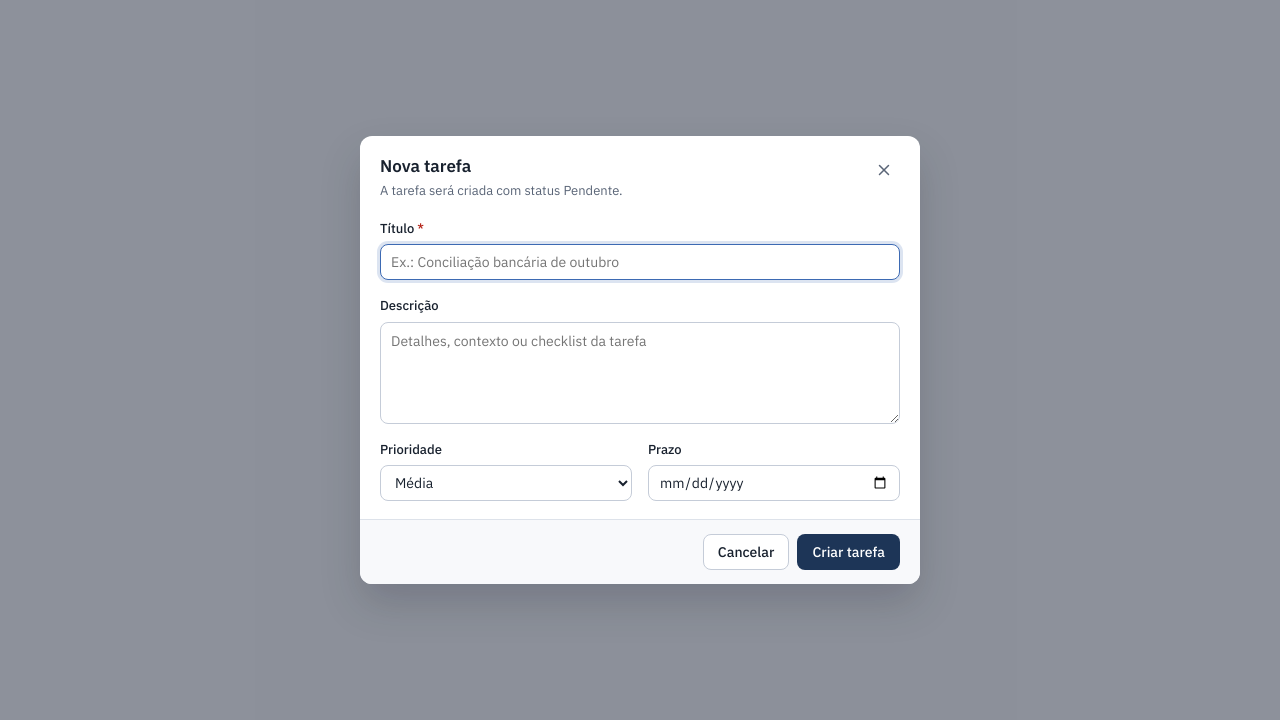
Test: TaskFormModal › mostra no campo o erro de validação devolvido pela API
This screenshot has width=1280, height=720.
In the field labelled "Título *": (640,262) 380,244 -> 900,280, type "Tarefa"
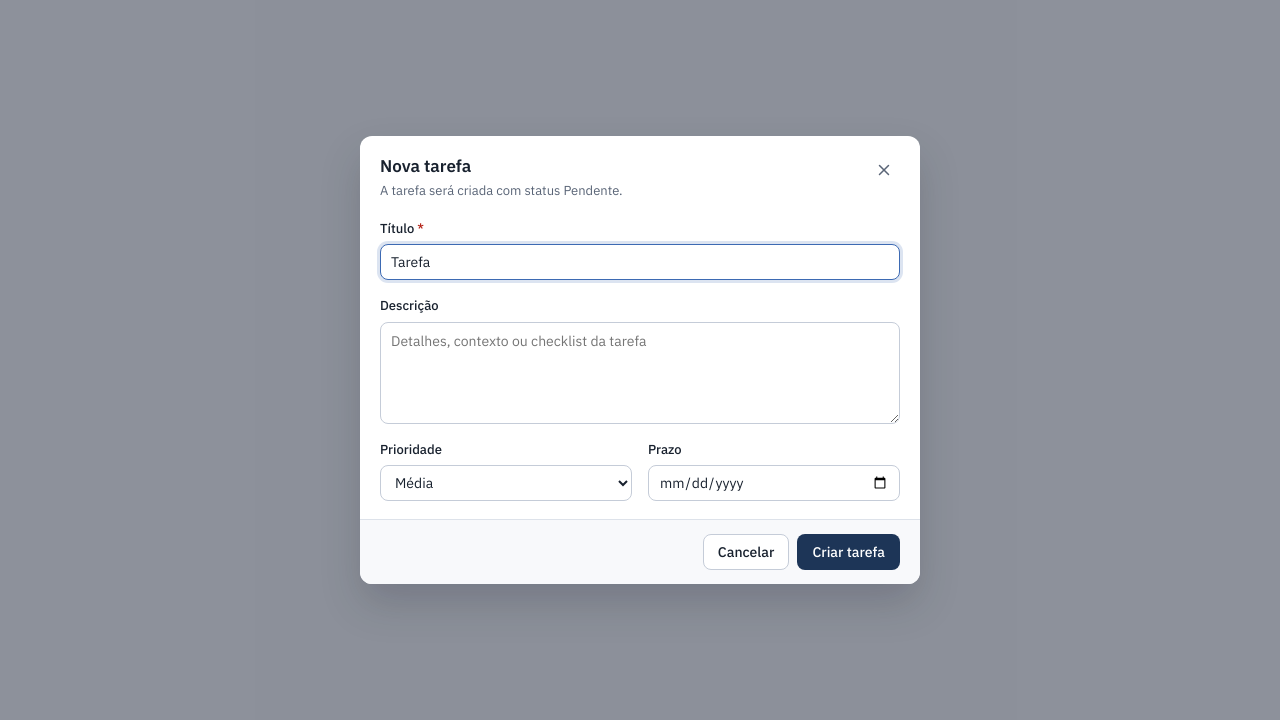
Click the button "Criar tarefa": (849,552) 797,534 -> 900,570
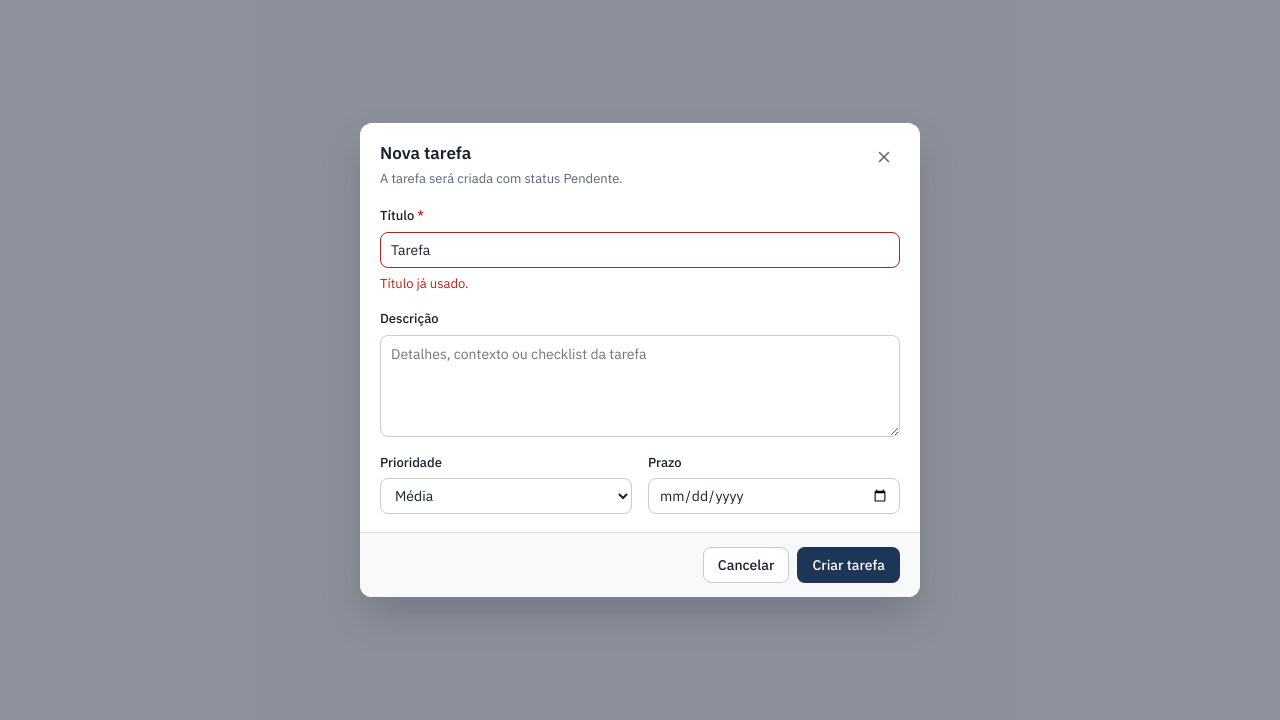
Now the text "Título já usado." is shown, box 380,274 -> 468,292
